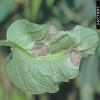Potato leaf late blight: (4, 18, 99, 96)
